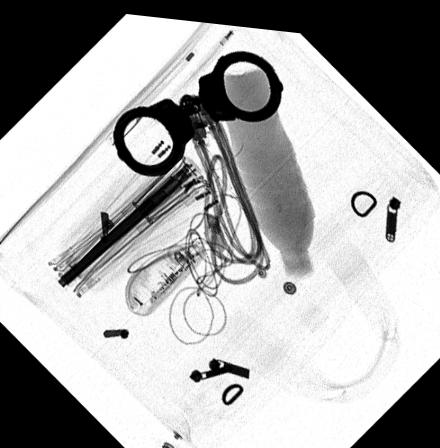HandCuffs: (113, 45, 283, 172)
